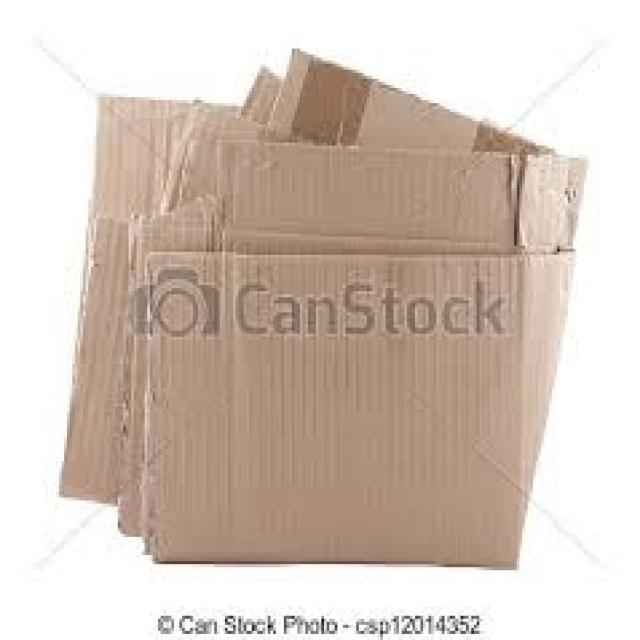cardboard: (115, 209, 562, 534), (137, 246, 571, 567), (62, 91, 228, 500), (158, 127, 584, 261), (230, 46, 549, 152)
